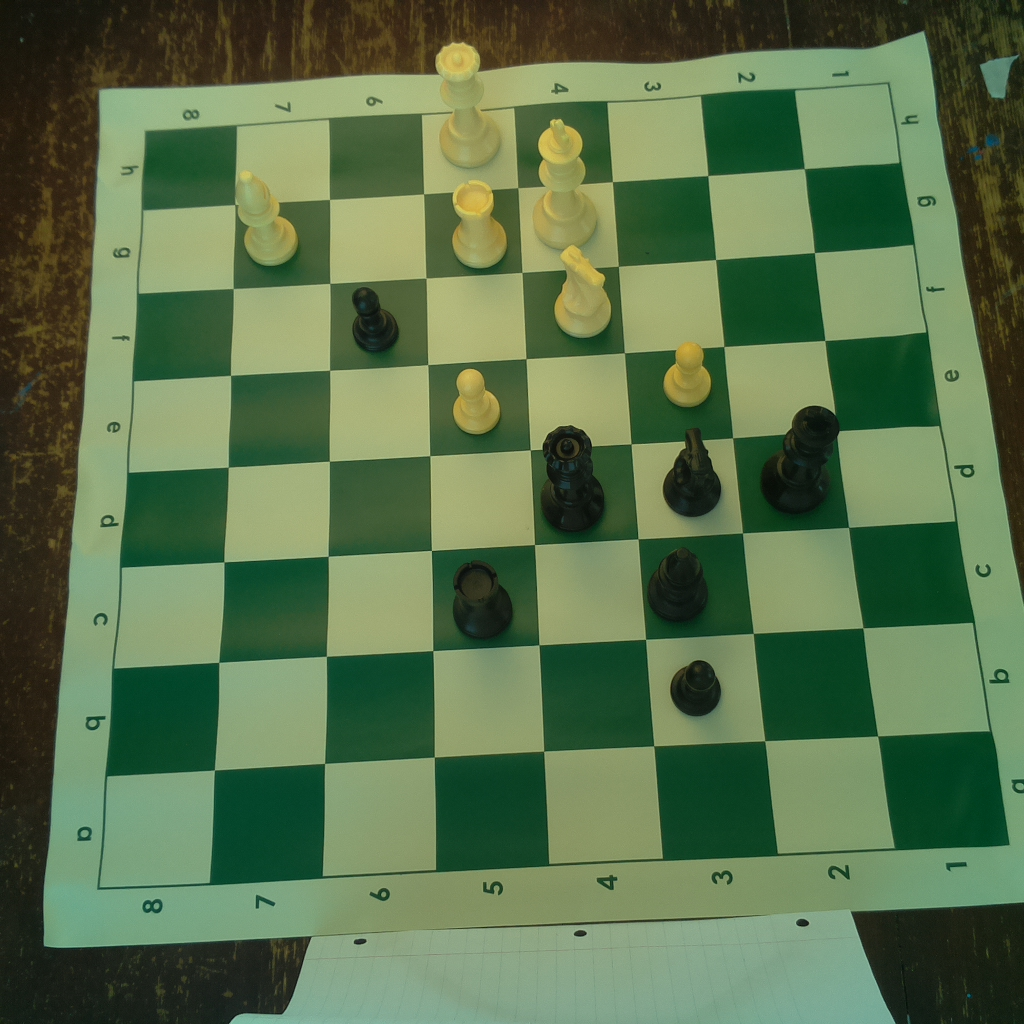black_bishop: (644, 543, 711, 625)
black_king: (758, 400, 841, 513)
black_knight: (659, 426, 725, 517)
black_pawn: (351, 282, 403, 354), (667, 661, 724, 722)
black_queen: (538, 423, 611, 540)
black_rook: (445, 554, 519, 647)
file_a: (93, 732, 1012, 890)
file_b: (105, 622, 992, 777)
file_c: (112, 523, 972, 667)
file_d: (119, 425, 958, 569)
file_e: (128, 330, 944, 469)
file_f: (132, 243, 929, 380)
file_g: (136, 164, 916, 293)
file_h: (140, 84, 903, 210)
outline: (97, 84, 1014, 891)
rank_1: (796, 84, 1011, 853)
rank_2: (702, 87, 894, 854)
rank_3: (607, 97, 779, 861)
rank_4: (512, 99, 664, 867)
rank_5: (423, 105, 550, 875)
rank_6: (321, 113, 438, 875)
rank_7: (210, 121, 329, 883)
rank_8: (96, 127, 240, 888)
white_bishop: (229, 167, 303, 266)
white_king: (531, 113, 598, 248)
white_knight: (551, 243, 616, 339)
white_pawn: (445, 362, 507, 436), (660, 338, 714, 412)
white_queen: (425, 36, 506, 173)
white_rook: (444, 180, 512, 273)
